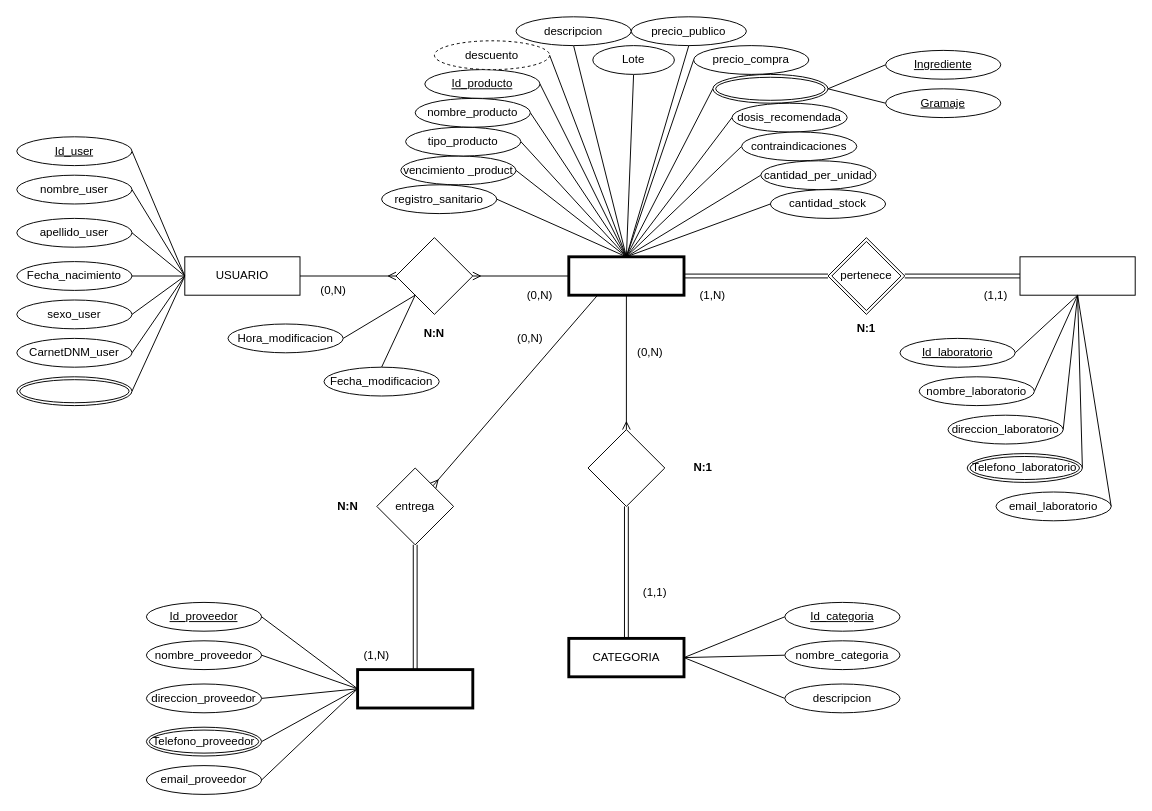
This 1152x811 diagram has some shape labels left out. The centre of each missing label's shape, as x and y in pixels:
"Divide" belongs at (626,467).
"Formula" belongs at (770,88).
"LABORATORIO" belongs at (1077,275).
"modifica" belongs at (434,275).
"PRODUCTO" belongs at (626,275).
"PROVEEDOR" belongs at (415,688).
"Telefono_user" belongs at (74,391).
